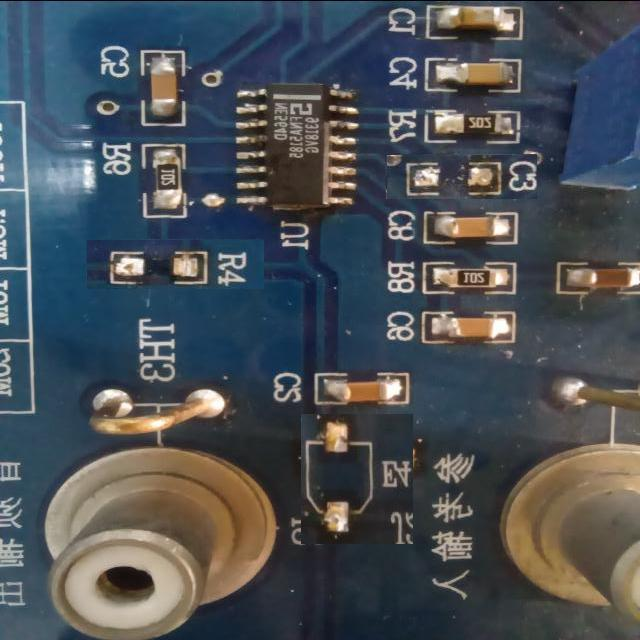miss_welding: (297, 418, 418, 540), (86, 239, 264, 289), (386, 154, 538, 199)
